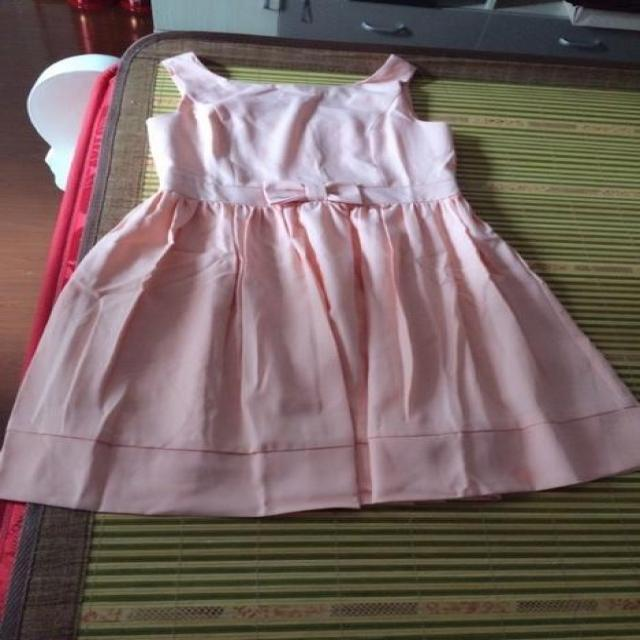short-sleeve-dress: (96, 35, 637, 565)
